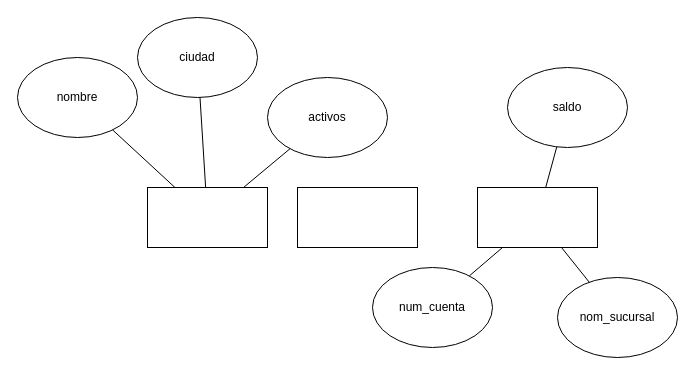
Some shapes in this 695 by 375 pixel diagram are drawn without their labels. The shapes that lost their labels are listed below. From the top down, each one's centre as x and y in pixels, then its label:
(x=207, y=217): Sucursal
(x=357, y=217): Entity
(x=537, y=217): Cuenta
